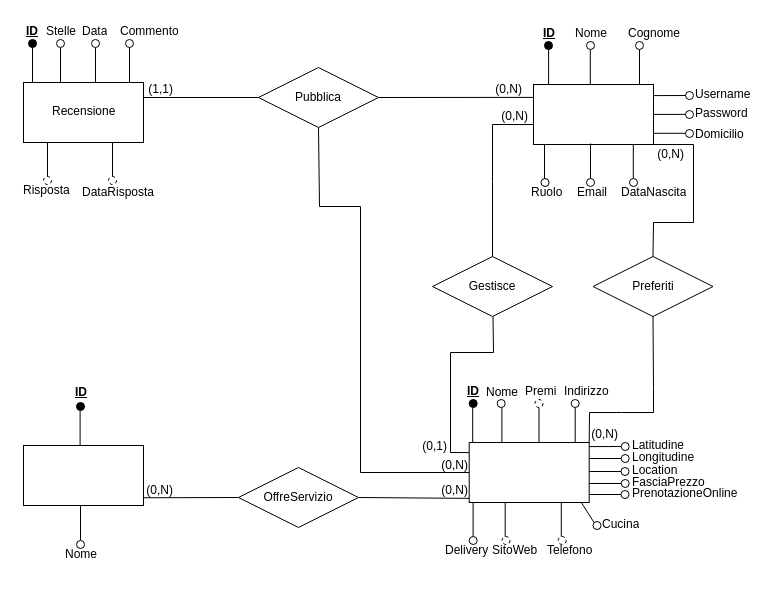
Some shapes in this 775 by 590 pixel diagram are drawn without their labels. The centre of each missing label's shape, as x and y in pixels:
"Ristorante" belongs at (528,472).
"Servizio" belongs at (83,475).
"Utente" belongs at (593,114).
